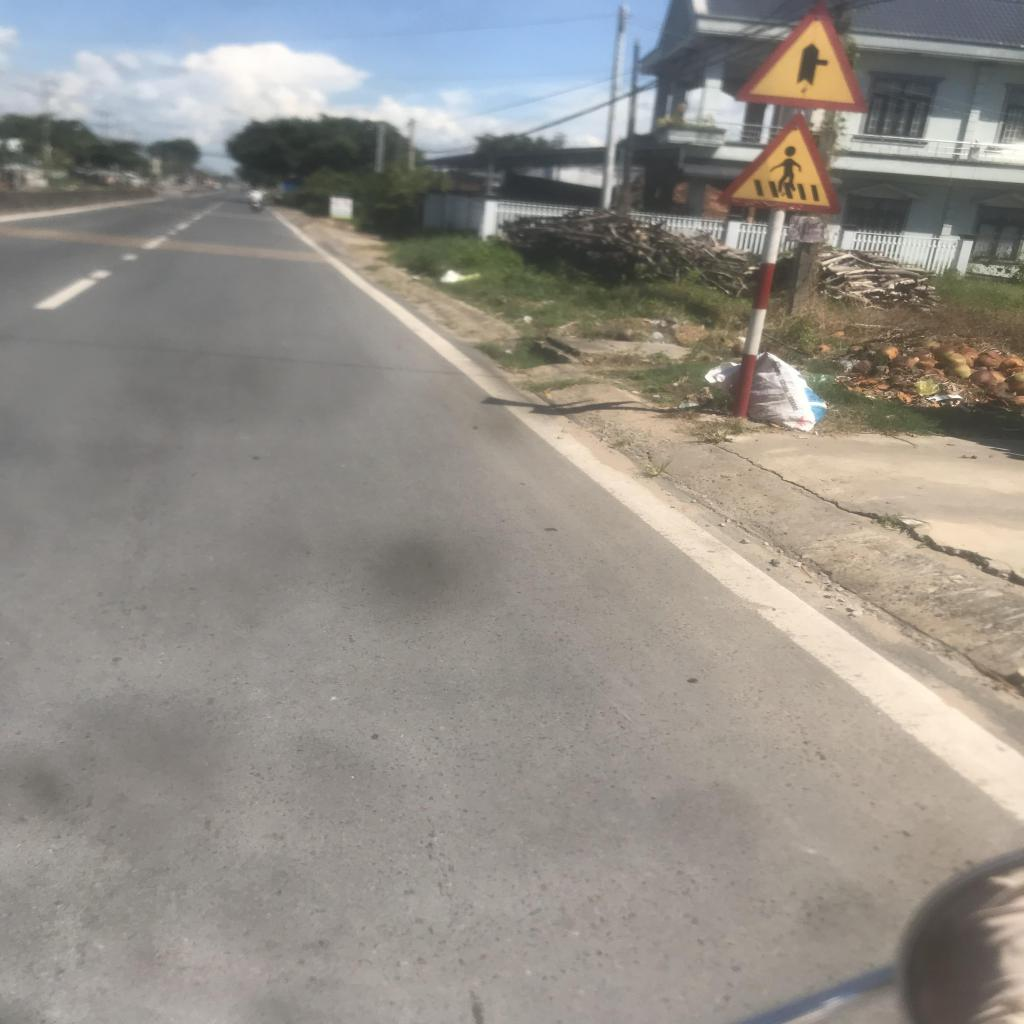chu_y_nguoi_di_bo_cat_ngang: (717, 112, 841, 216)
giao_nhau_voi_duong_khong_uu_tien: (732, 4, 868, 113)
